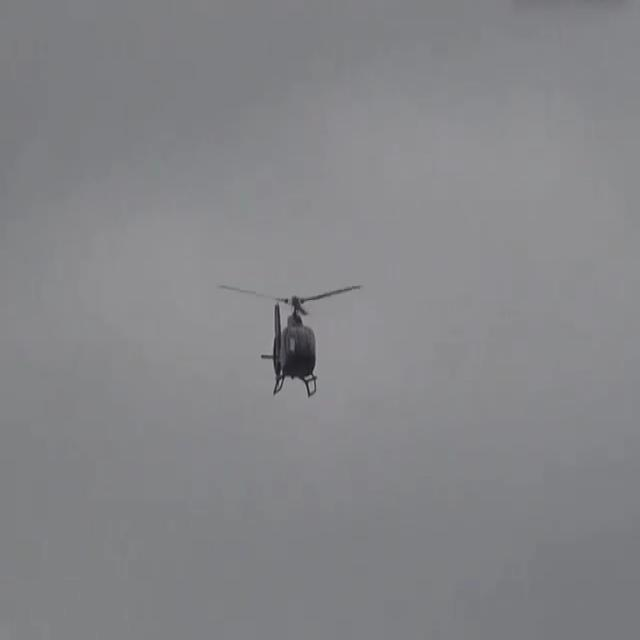Helicopter: (218, 240, 369, 421)
